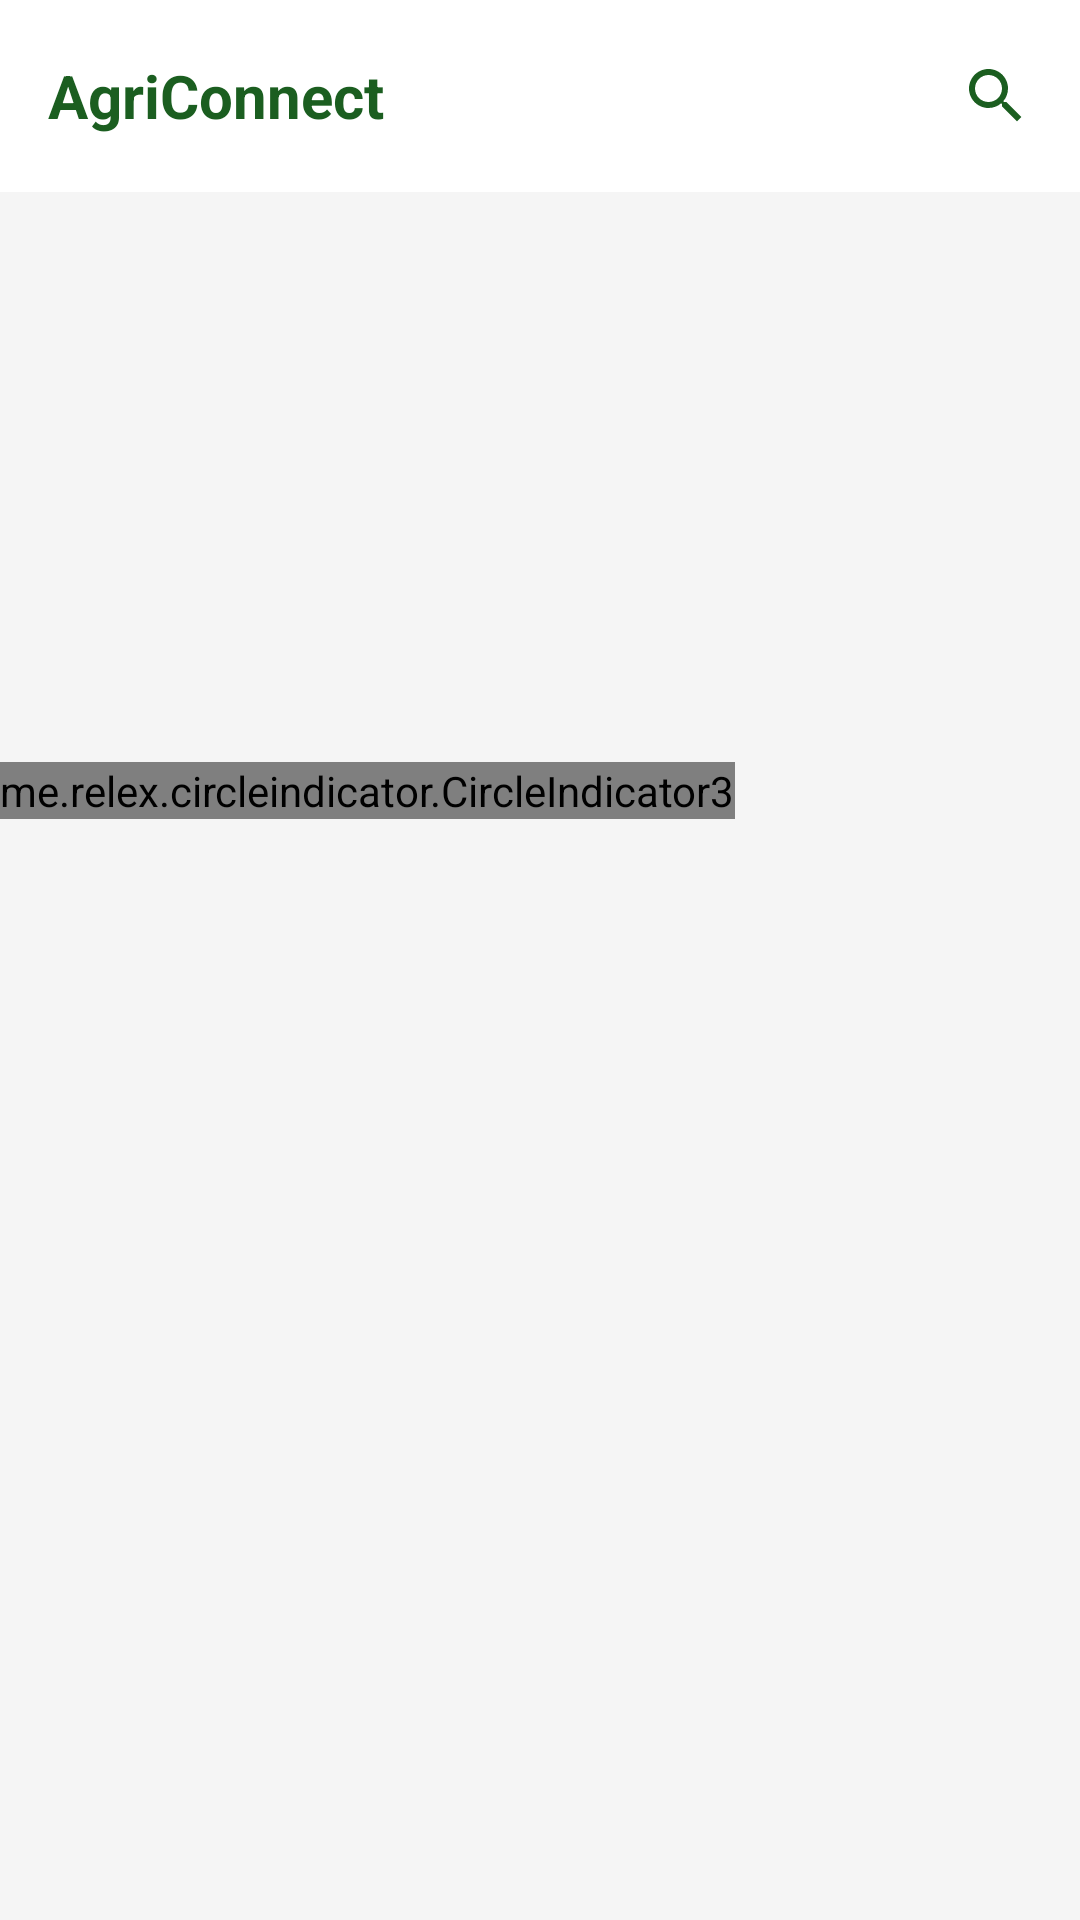

Named icons in this screenshot (1080px x 1920px) and their centers, (x=x, y=y):
Search: (x=995, y=95)
